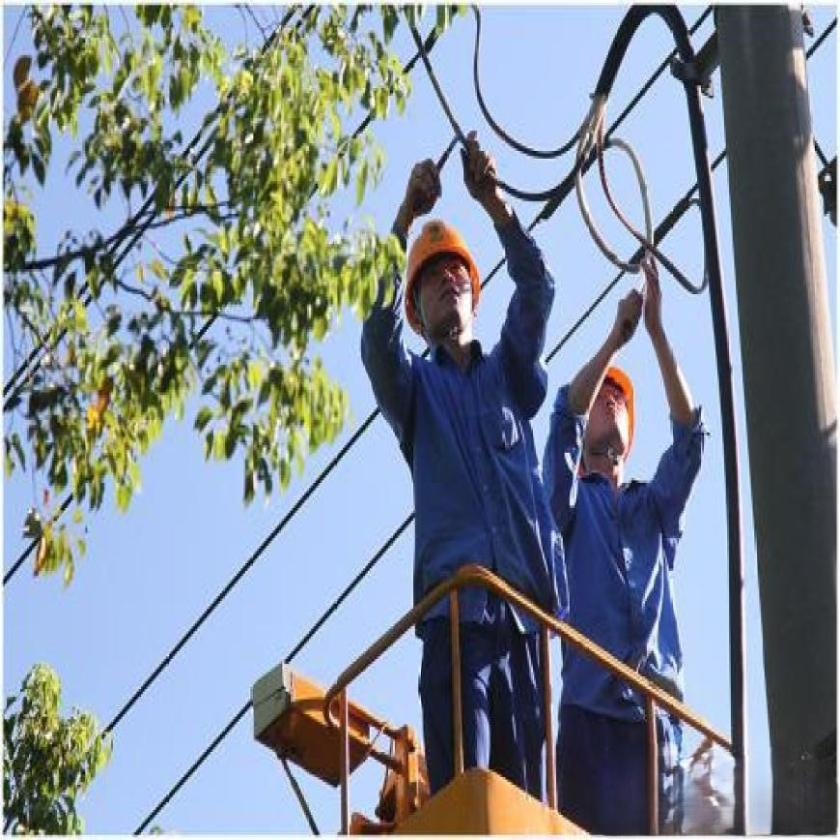Con_casco: (402, 213, 482, 357)
